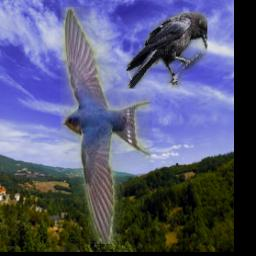Crow: (127, 12, 207, 90)
Swallow: (61, 7, 150, 244)
